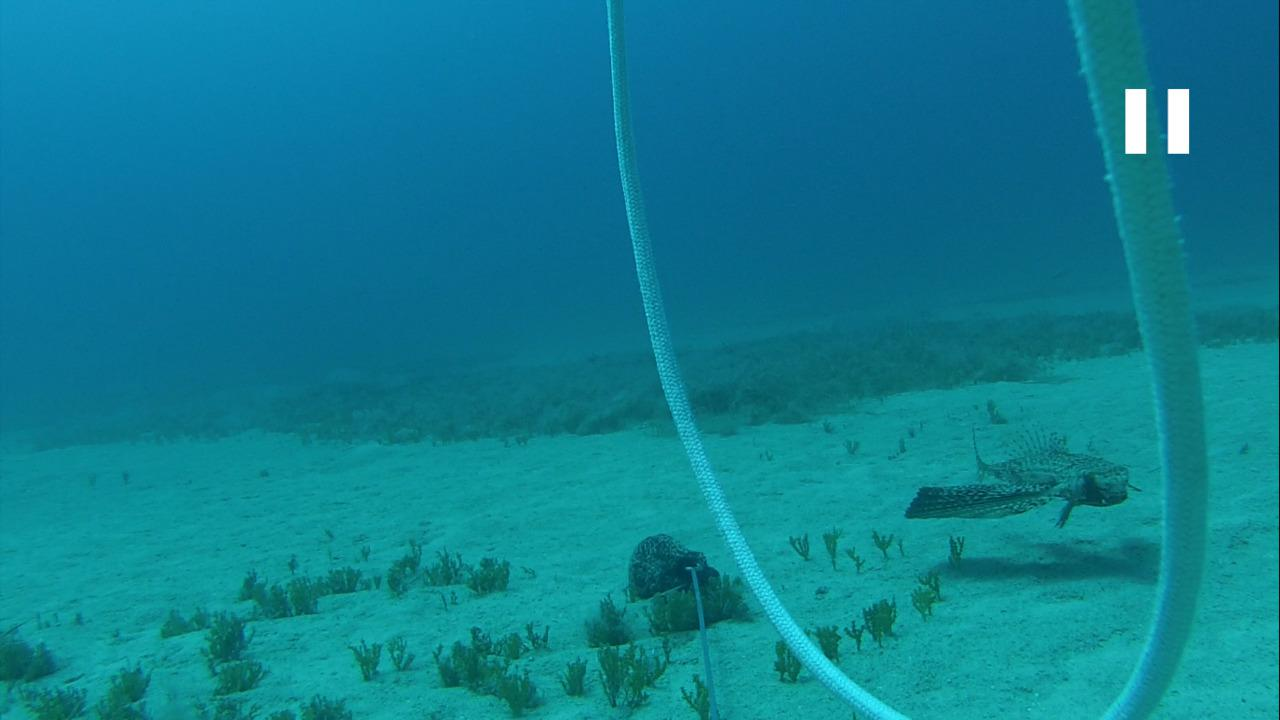dactylopterus: (908, 429, 1147, 529)
